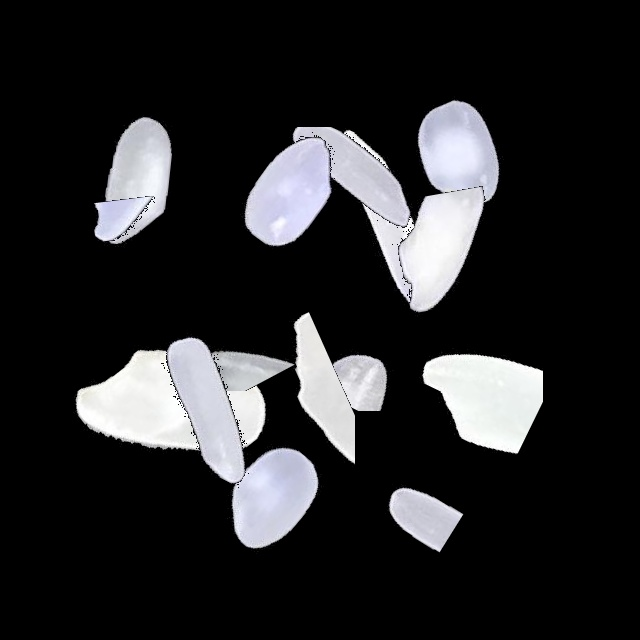Broken: (366, 154, 539, 404), (210, 127, 460, 292), (394, 259, 543, 509), (274, 436, 524, 561), (104, 266, 354, 391), (244, 302, 355, 552), (246, 302, 496, 411), (38, 194, 288, 284)
Full: (49, 286, 299, 536), (260, 97, 510, 347), (337, 26, 587, 276), (167, 67, 417, 317), (147, 372, 397, 622), (14, 55, 264, 305), (83, 284, 333, 534)
